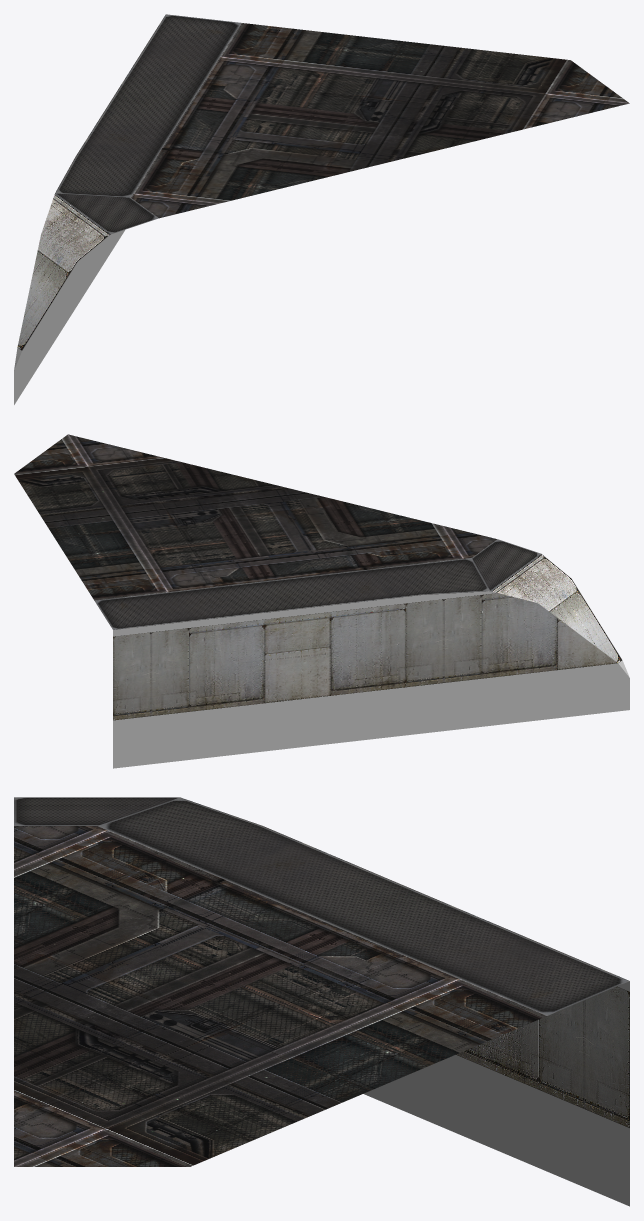
The model's file is Roof_B_Short2mts_07.fbx.
The picture shows the model from 3 angles, top to bottom: view 1: azimuth 30°, elevation 25°; view 2: azimuth 150°, elevation 25°; view 3: azimuth 270°, elevation 25°; orthographic projection. The views are drawn at different scales.
Parts seen in each view (by area): view 1: Roof_B_Short2mts_07; view 2: Roof_B_Short2mts_07; view 3: Roof_B_Short2mts_07.
Boxes of the visible parts, x1,y1,x2,y2 form: Roof_B_Short2mts_07: (14, 14, 629, 404); Roof_B_Short2mts_07: (14, 434, 629, 768); Roof_B_Short2mts_07: (14, 797, 629, 1206).
Size of the model in its own units: 849 by 200 by 495.
